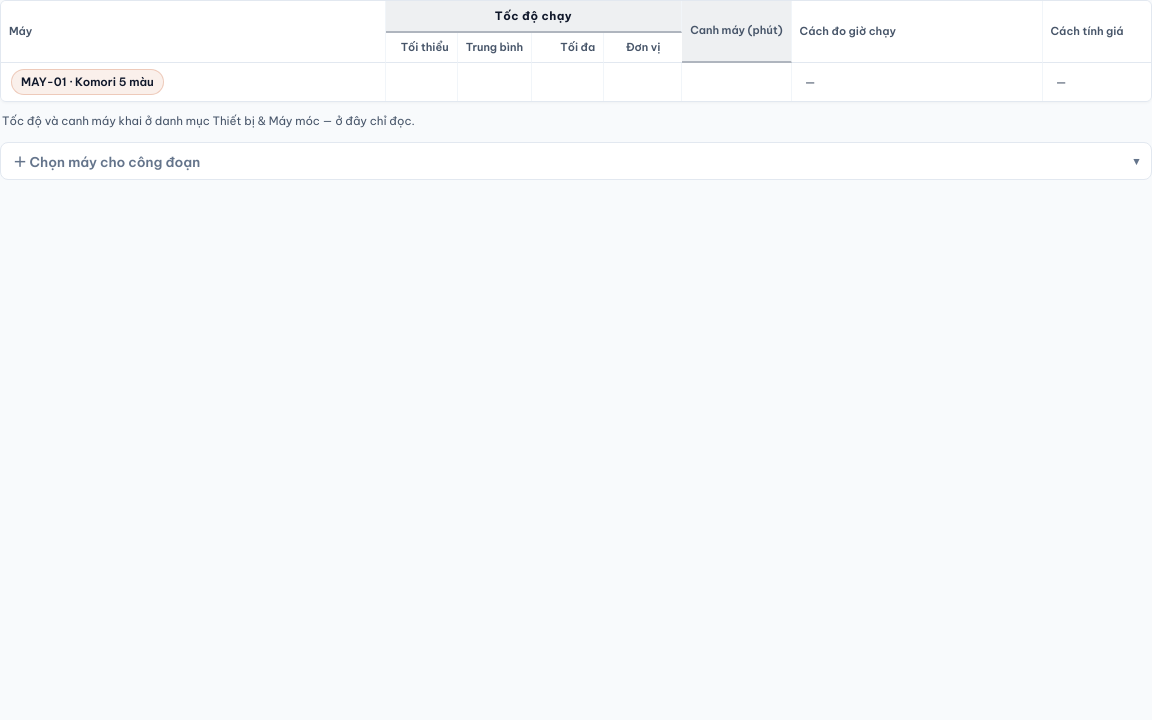
Test case: MayCuaCongDoanField › bấm tên máy mở Ô GIỜ, không kéo theo ô giá
Click the button "MAY-01 · Komori 5 màu".
click(87, 82)  # box [11,69,164,95]
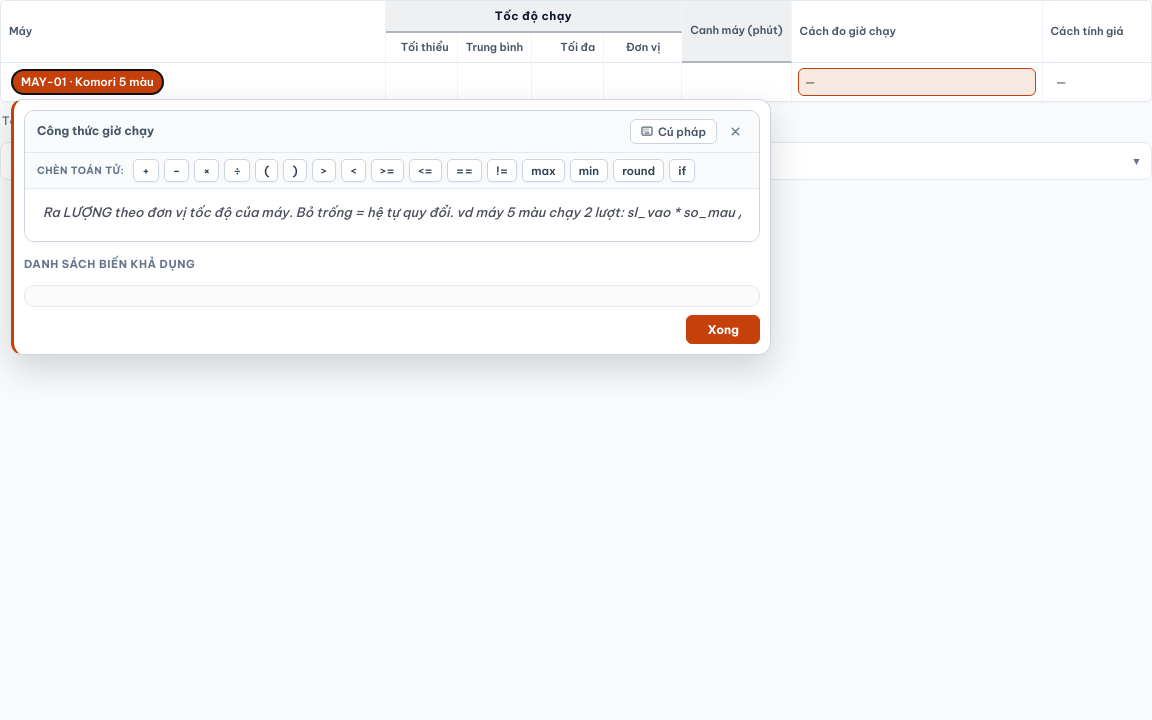
Now the text "Công thức giờ chạy" is shown, box [37,122,154,141]
